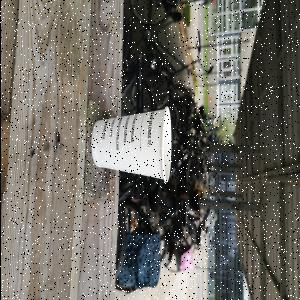Cup: (91, 107, 173, 185)
